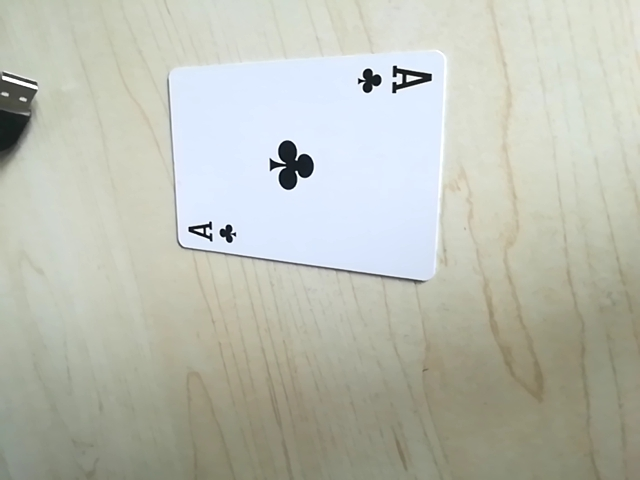mh a: (353, 57, 435, 103), (180, 214, 245, 251)
